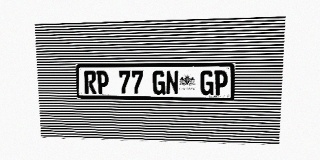7: (118, 71, 131, 94), (131, 71, 144, 94)
G: (200, 70, 214, 95), (153, 70, 165, 95)
N: (166, 70, 179, 95)
P: (214, 70, 228, 95), (96, 71, 109, 94)
R: (84, 71, 97, 94)
